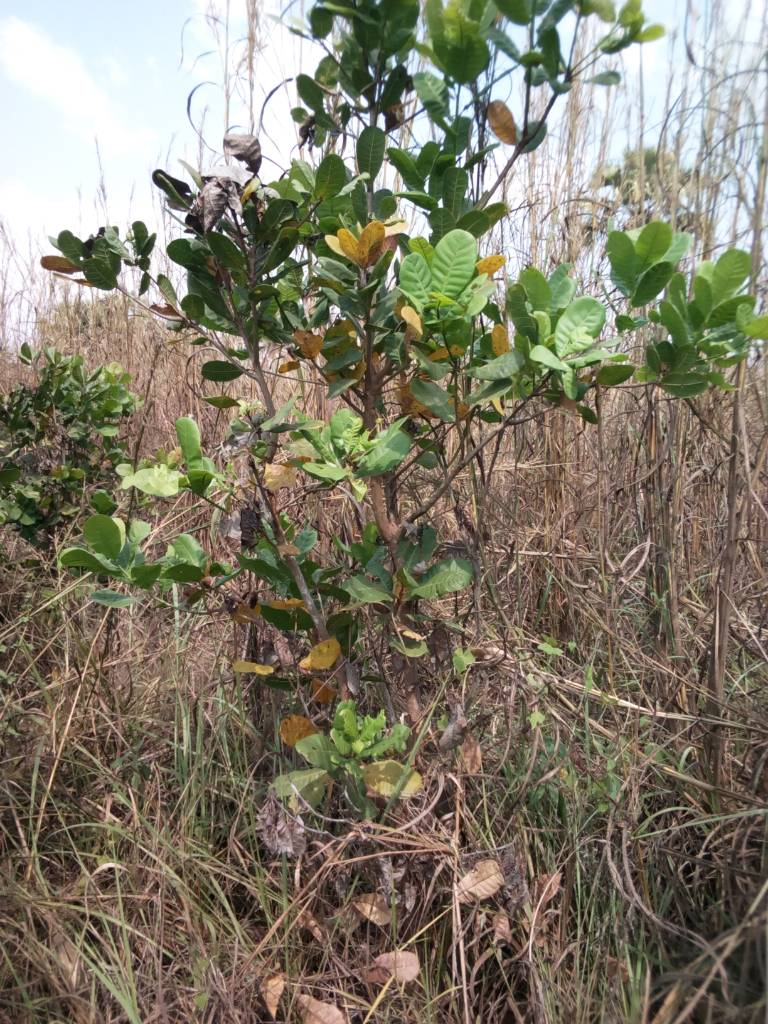Dessèchement des bourgeons: (193, 172, 241, 249), (224, 125, 265, 175)
